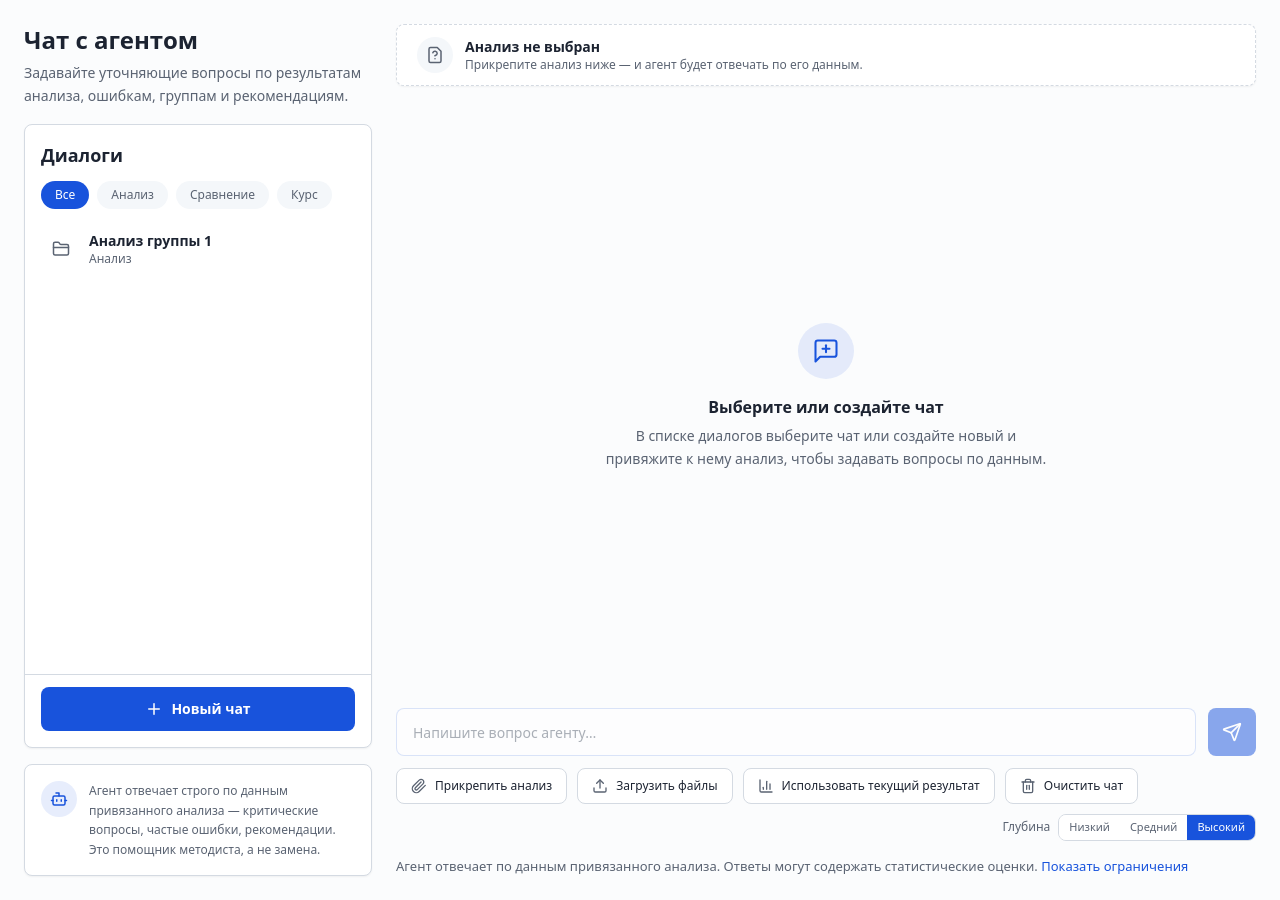
Scenario: ChatScreen › renders the confirm dialog on a confirm event and streams the resumed turn on approve
Click the text "Анализ группы 1" at (151, 240), box [89,230,212,250]
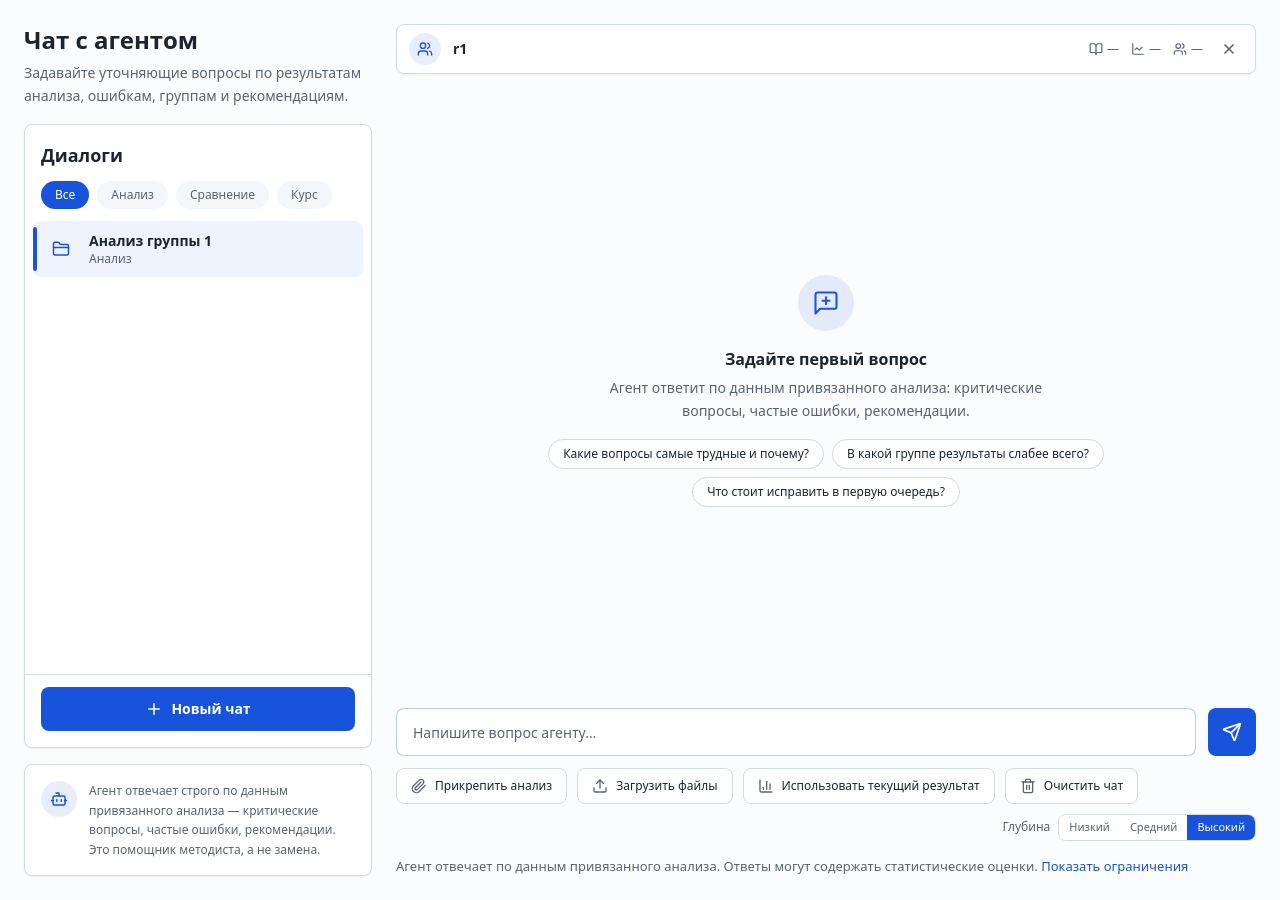
Type "перезапусти" into the field with placeholder "Напишите вопрос агенту…" at (796, 732), box [396,708,1196,756]
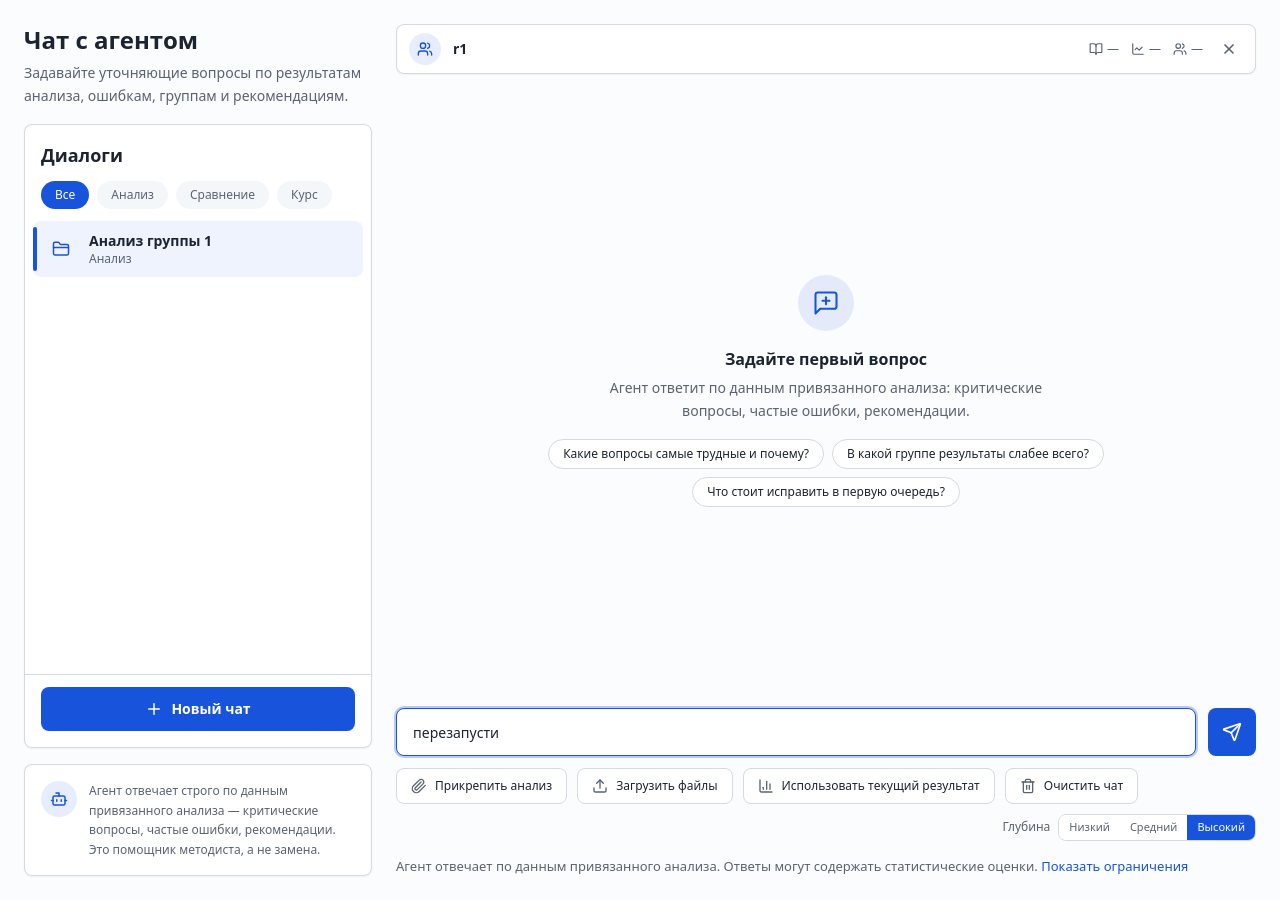
Click the button named "Отправить" at (1232, 732), box [1208,708,1256,756]
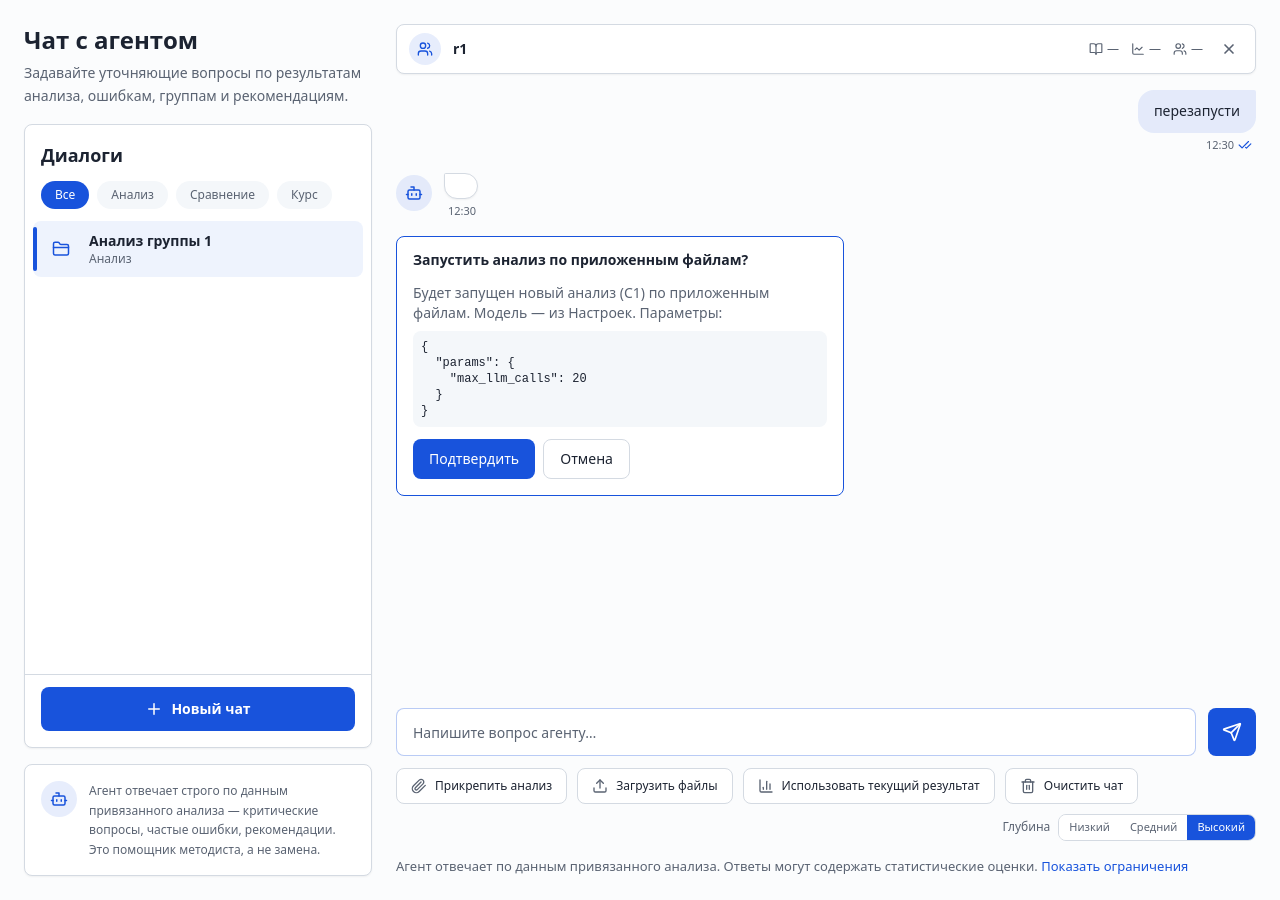
Expected: the text "Запустить анализ по приложенным файлам?" is shown, [413,250,748,269]
Click the button "Подтвердить" at (474, 459), box [413,439,535,479]
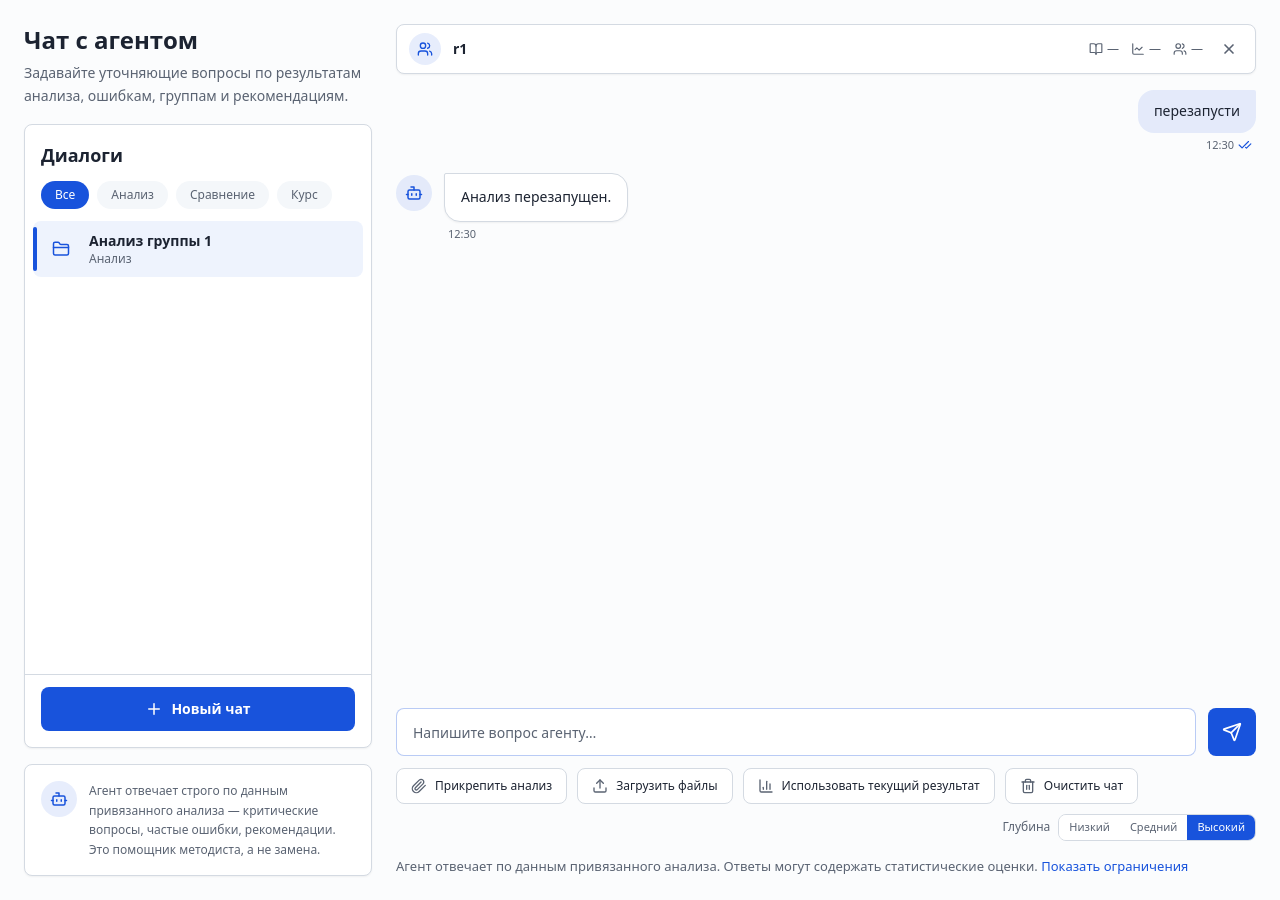
Expected: the text "Анализ перезапущен." is shown, [461,186,611,209]
